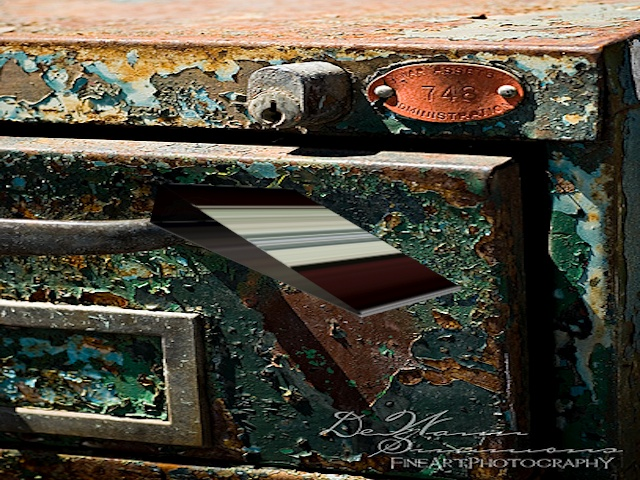ring_binder: (145, 177, 464, 320)
